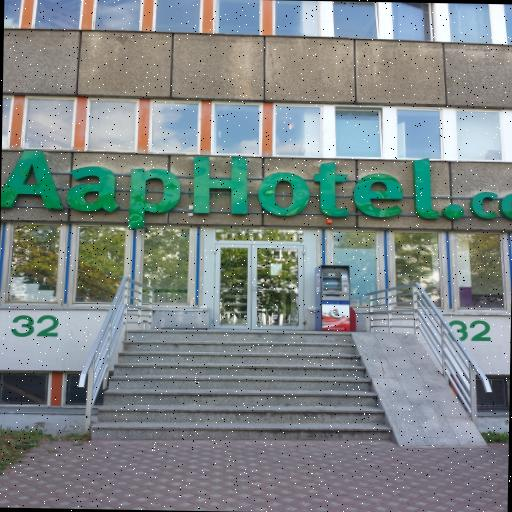ramp: (350, 333, 492, 449)
stairs: (88, 328, 390, 445)
